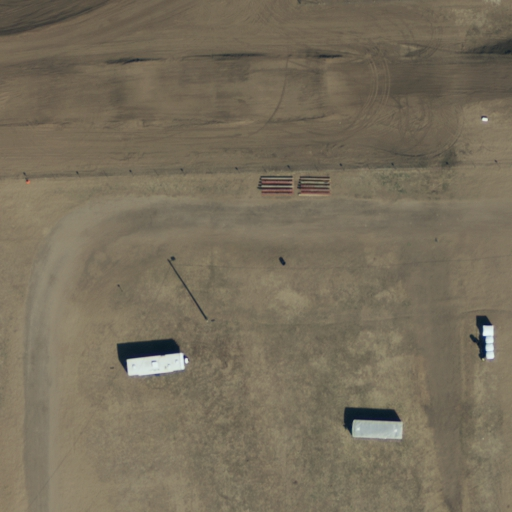DT: (193, 306, 222, 335)
